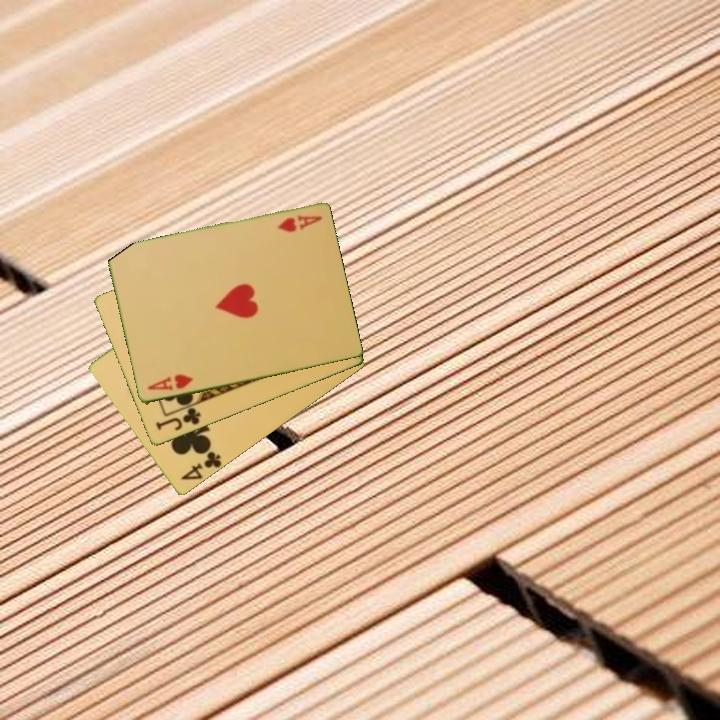4c: (177, 448, 224, 484)
Ah: (144, 371, 196, 394), (274, 212, 325, 235)
Jc: (152, 404, 204, 434)
